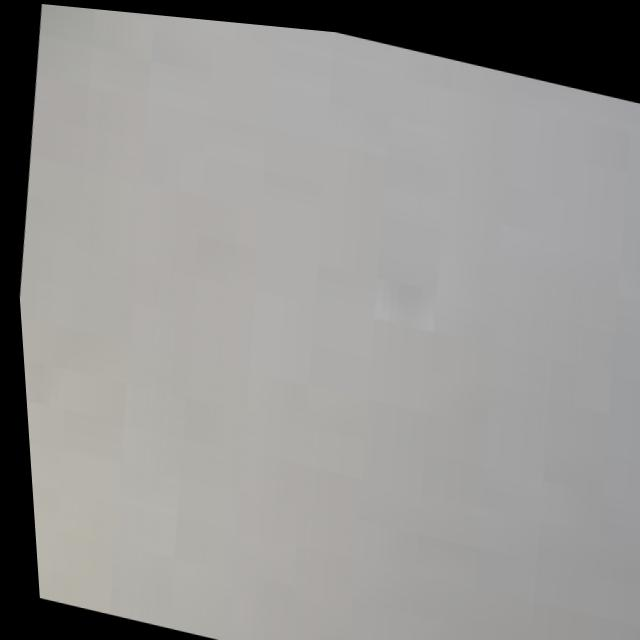metal-plates: (17, 4, 640, 640)
